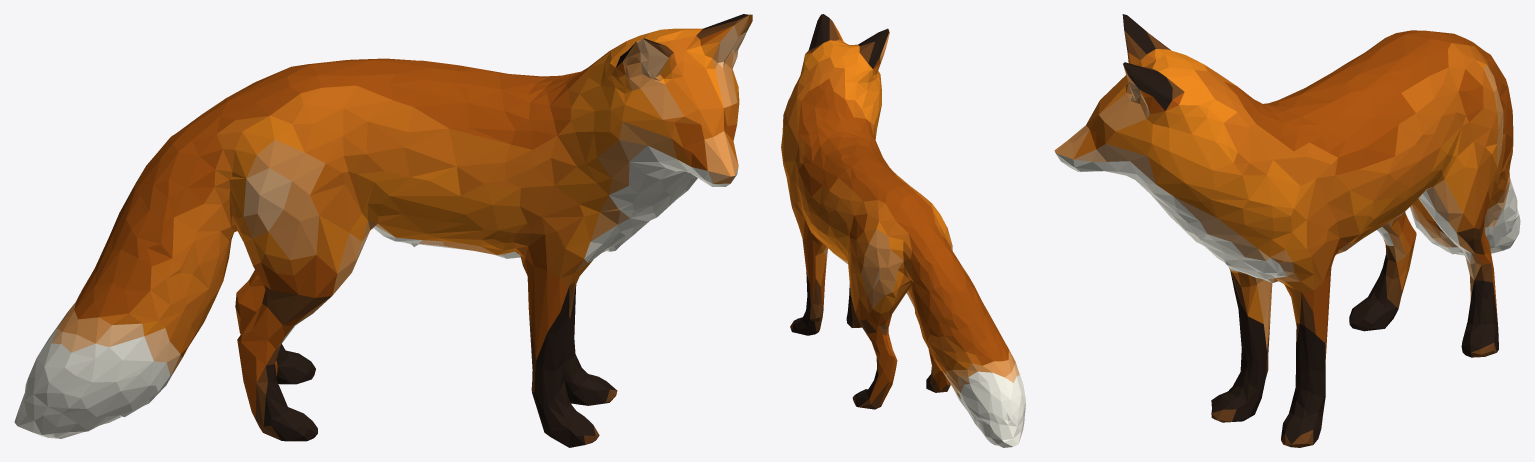
The model's file is fox.glb.
3 renders of one model, left to right at view 1: azimuth 30°, elevation 25°; view 2: azimuth 150°, elevation 25°; view 3: azimuth 270°, elevation 25°, orthographic. The views are drawn at different scales.
Parts seen in each view (by area): view 1: low-poly-fox; view 2: low-poly-fox; view 3: low-poly-fox.
Boxes of the visible parts, <box> form: low-poly-fox: <box>14,14,752,447</box>; low-poly-fox: <box>781,14,1025,447</box>; low-poly-fox: <box>1054,14,1520,447</box>.
Size of the model in its own units: 0.9995 by 0.7928 by 0.8171.
Materials: 1 (1 with a texture image).
